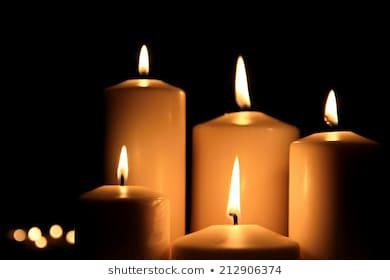fire: (224, 152, 243, 222), (231, 51, 252, 110), (322, 87, 340, 128), (114, 142, 130, 185), (135, 42, 151, 78)
